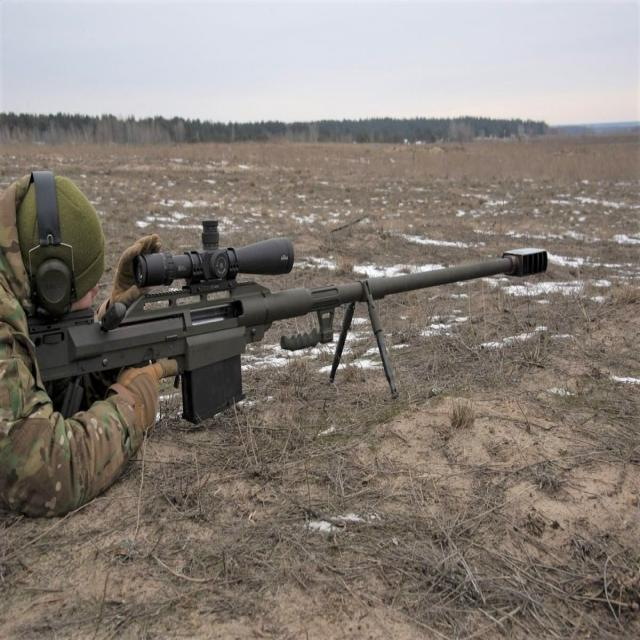sniper rifle: (37, 225, 554, 417)
